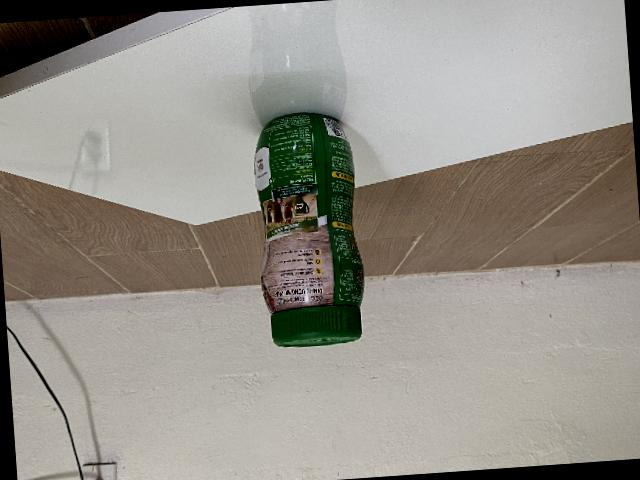milo: (252, 109, 364, 345)
